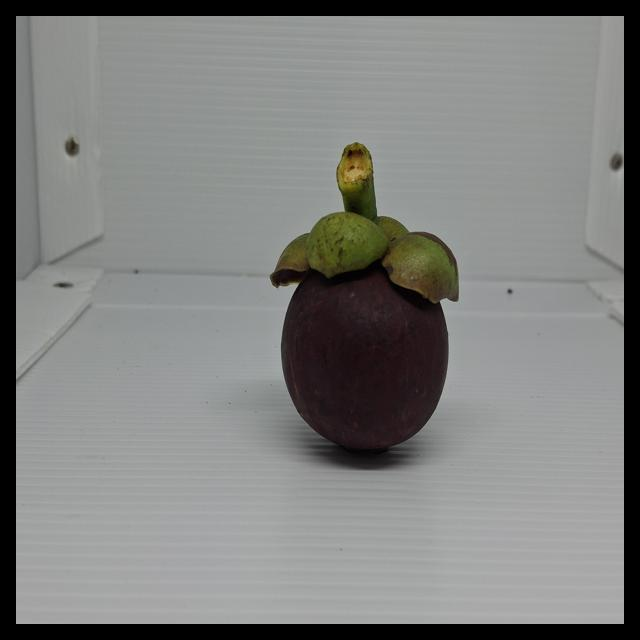mangosteen: (247, 139, 487, 443)
